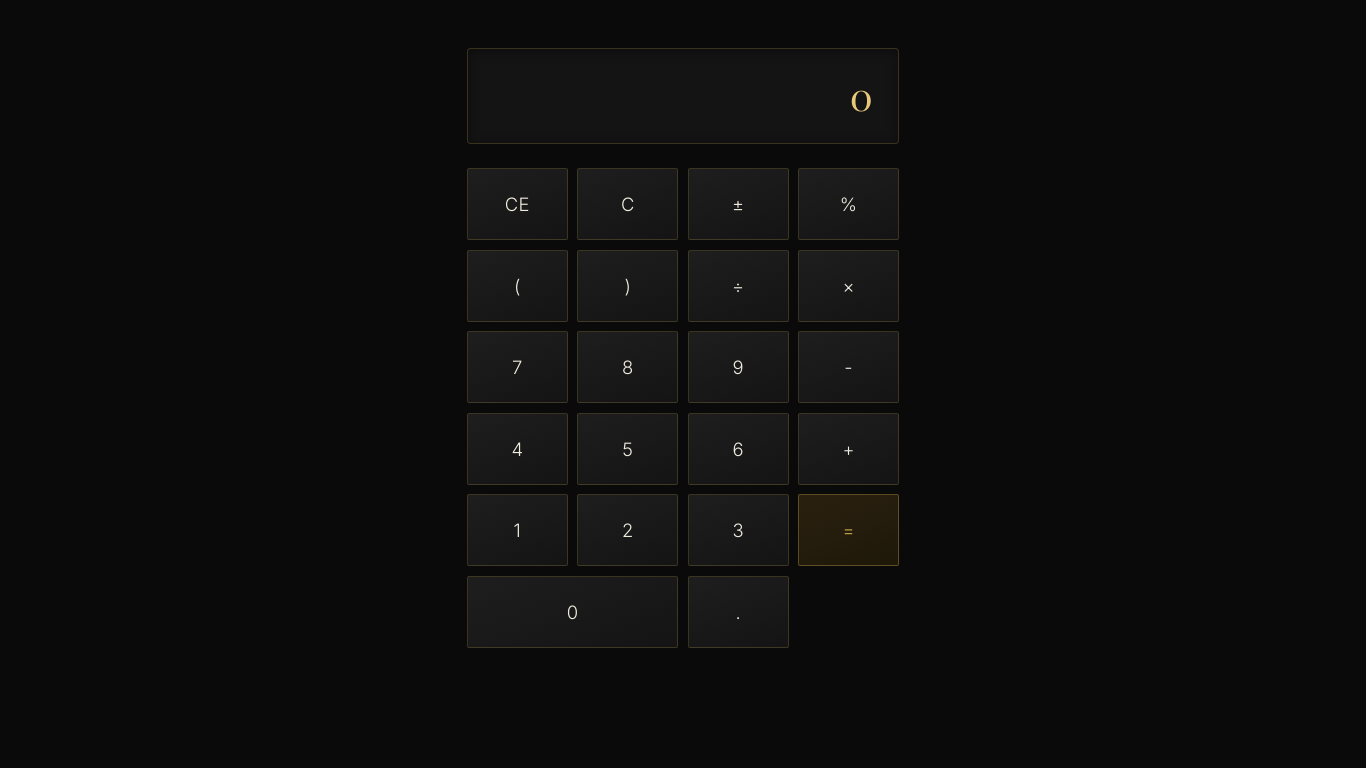
Test: CalculatorPage › bans user when = produces an error
Click the button "(".
click(517, 286)  # box [467,250,568,322]
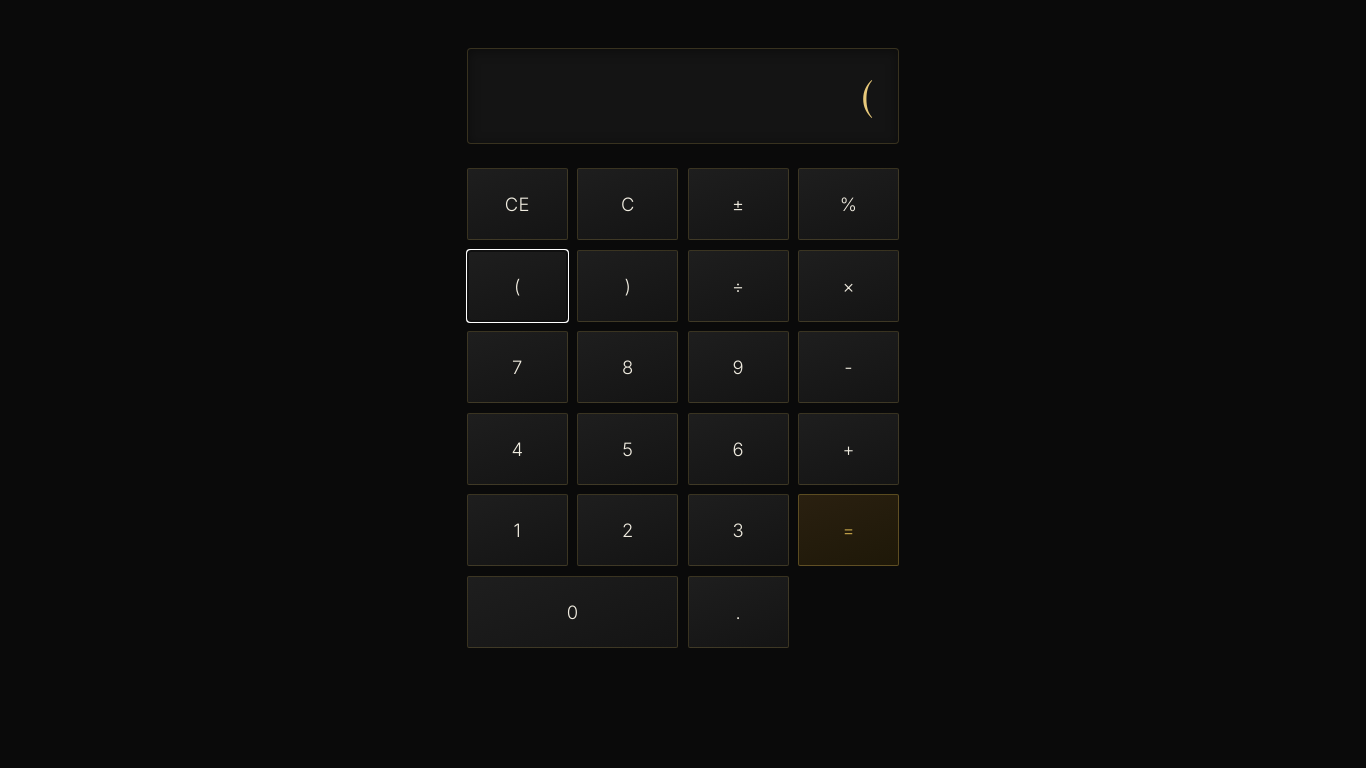
Click the button "=".
click(849, 530)  # box [798,494,899,566]
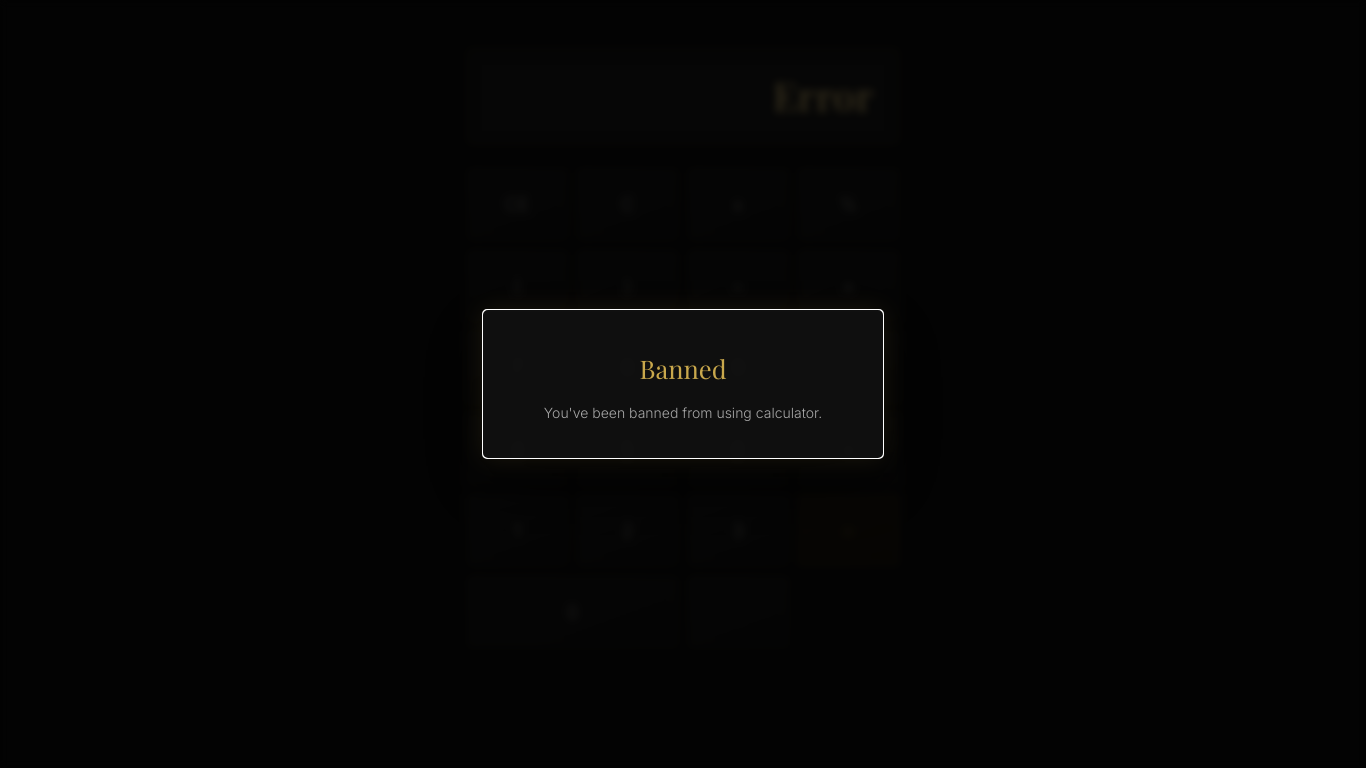
Result: the text "You've been banned from using calculator." is shown at [520,401,846,425]
